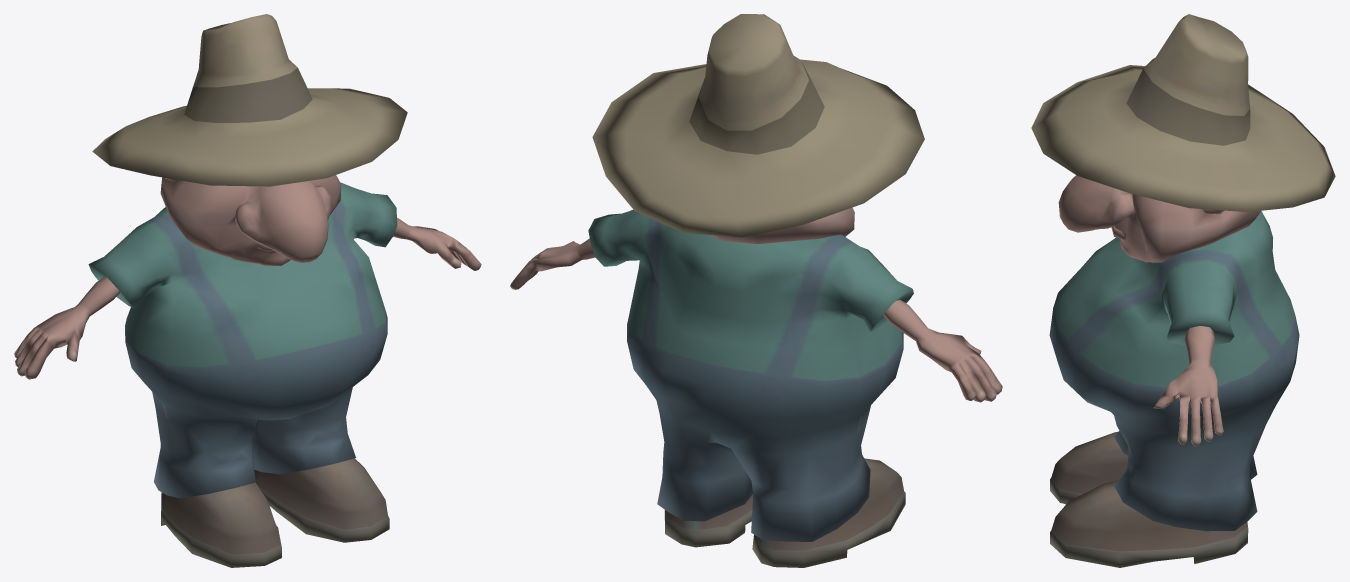
File: Farmer.fbx
3 views of the same model, side by side, from view 1: azimuth 30°, elevation 25°; view 2: azimuth 150°, elevation 25°; view 3: azimuth 270°, elevation 25° (orthographic). The views are drawn at different scales.
Parts seen in each view (by area): view 1: Object_2; view 2: Object_2; view 3: Object_2.
Boxes of the visible parts, left/top/right/bottom form: Object_2: left=14, top=14, right=481, bottom=567; Object_2: left=510, top=14, right=1002, bottom=567; Object_2: left=1031, top=14, right=1335, bottom=567.
Size of the model in its own units: 142 by 146 by 80.23.
Materials: 1 (1 with a texture image).
